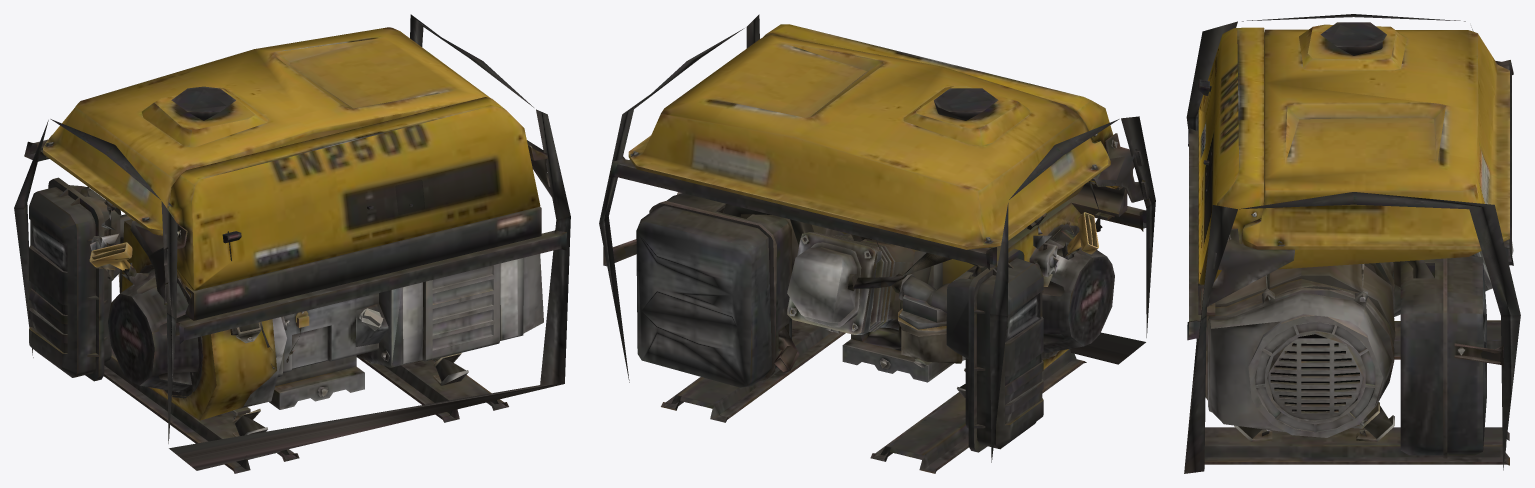
File: generator.glb
The picture shows the model from 3 angles, left to right: view 1: azimuth 30°, elevation 25°; view 2: azimuth 150°, elevation 25°; view 3: azimuth 270°, elevation 25°; orthographic projection. The views are drawn at different scales.
Visible parts, largest first — view 1: portable_generator; view 2: portable_generator; view 3: portable_generator.
Part boxes in pixels (<box>): portable_generator: <box>14,14,570,473</box>; portable_generator: <box>599,14,1155,473</box>; portable_generator: <box>1184,14,1520,473</box>.
Size of the model in its own units: 0.8146 by 0.5746 by 0.5549.
Materials: 2 (2 with a texture image).
